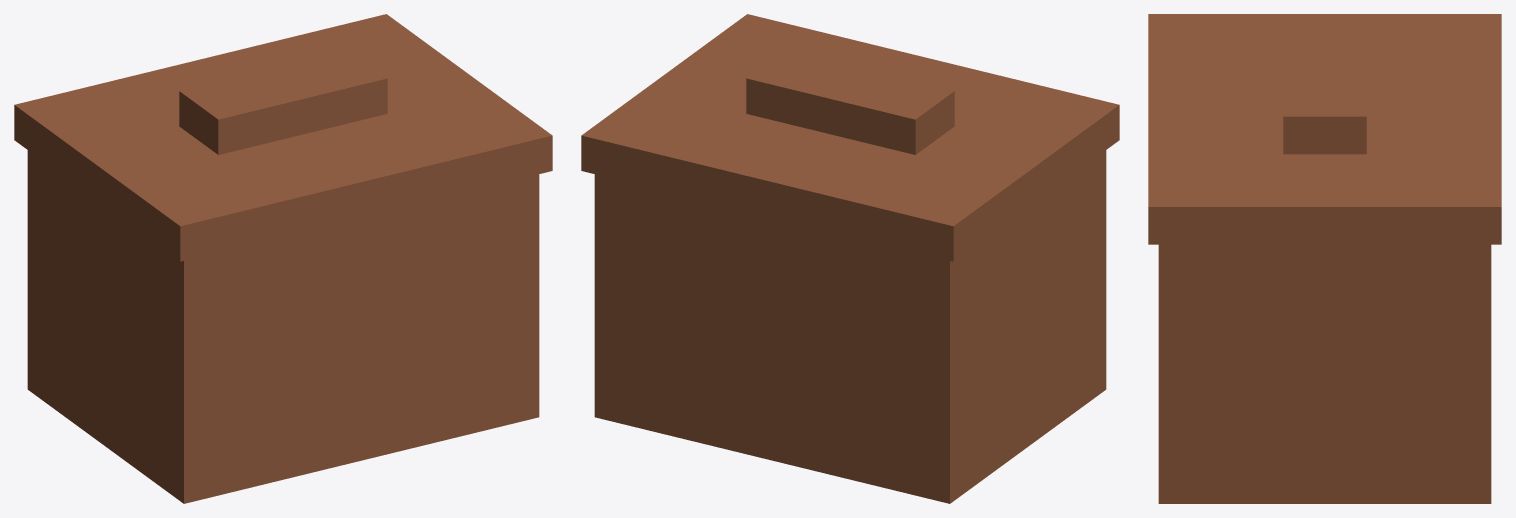
The model's file is product_kiln_carton.glb.
The picture shows the model from 3 angles, left to right: view 1: azimuth 30°, elevation 25°; view 2: azimuth 150°, elevation 25°; view 3: azimuth 270°, elevation 25°; orthographic projection. The views are drawn at different scales.
Parts seen in each view (by area): view 1: product.kiln_carton; view 2: product.kiln_carton; view 3: product.kiln_carton.
Part boxes in pixels (<box>): product.kiln_carton: <box>14,14,552,503</box>; product.kiln_carton: <box>581,14,1119,503</box>; product.kiln_carton: <box>1148,14,1501,503</box>.
Bounding box in the file's own units: 0.24 × 0.1964 × 0.1855.
